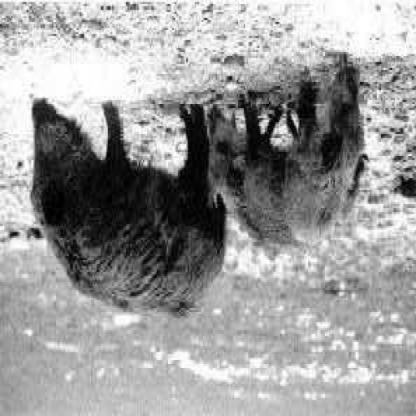boar: (25, 50, 222, 324), (276, 55, 380, 256), (195, 107, 312, 273)
